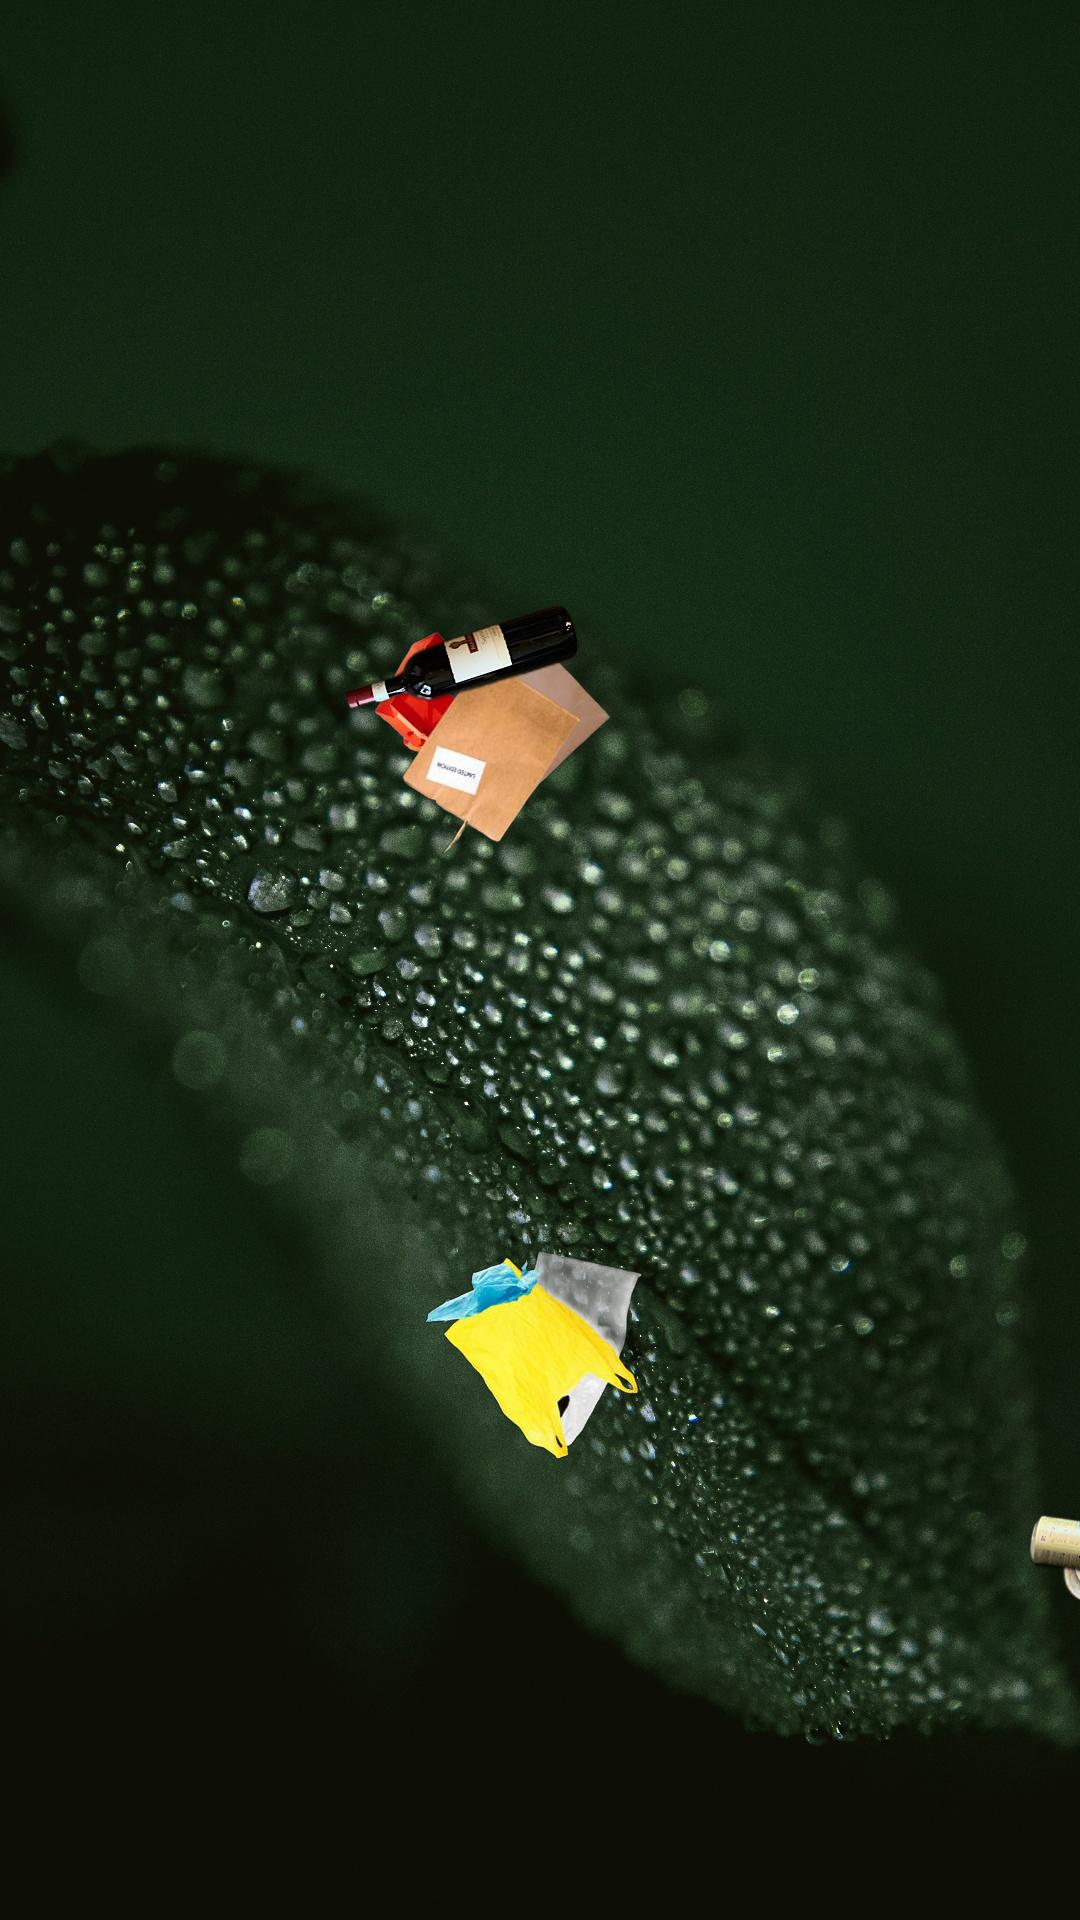glass: (340, 601, 583, 715)
metal-cans: (825, 1476, 1080, 1580)
paper-bag: (372, 616, 613, 856)
plastic-bag: (425, 1249, 645, 1460)
trashbox-cardboard: (820, 1174, 1080, 1619)
